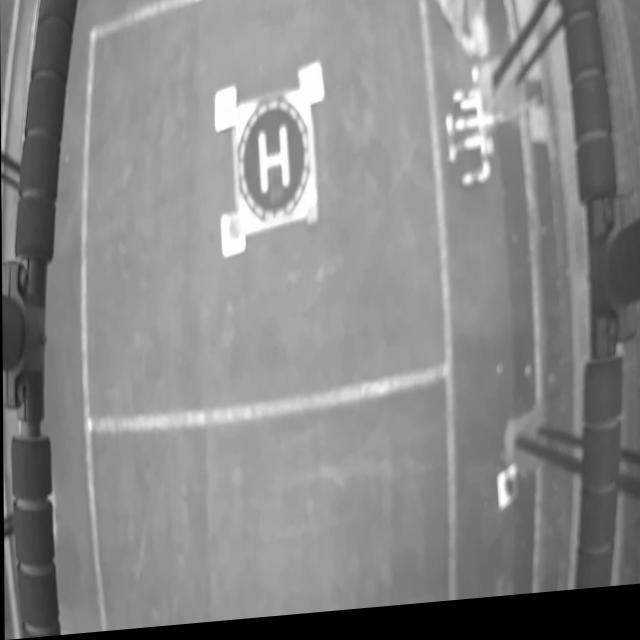Helipad: (257, 130, 291, 199)
